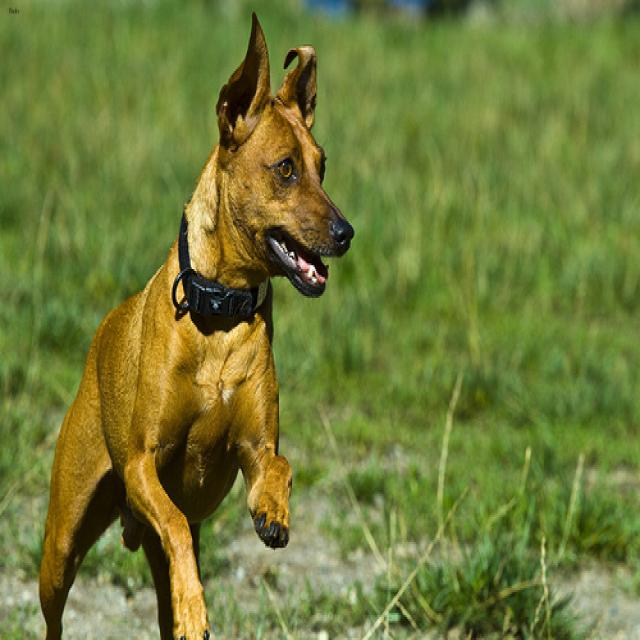dog-miniature_pinscher: (27, 2, 365, 636)
